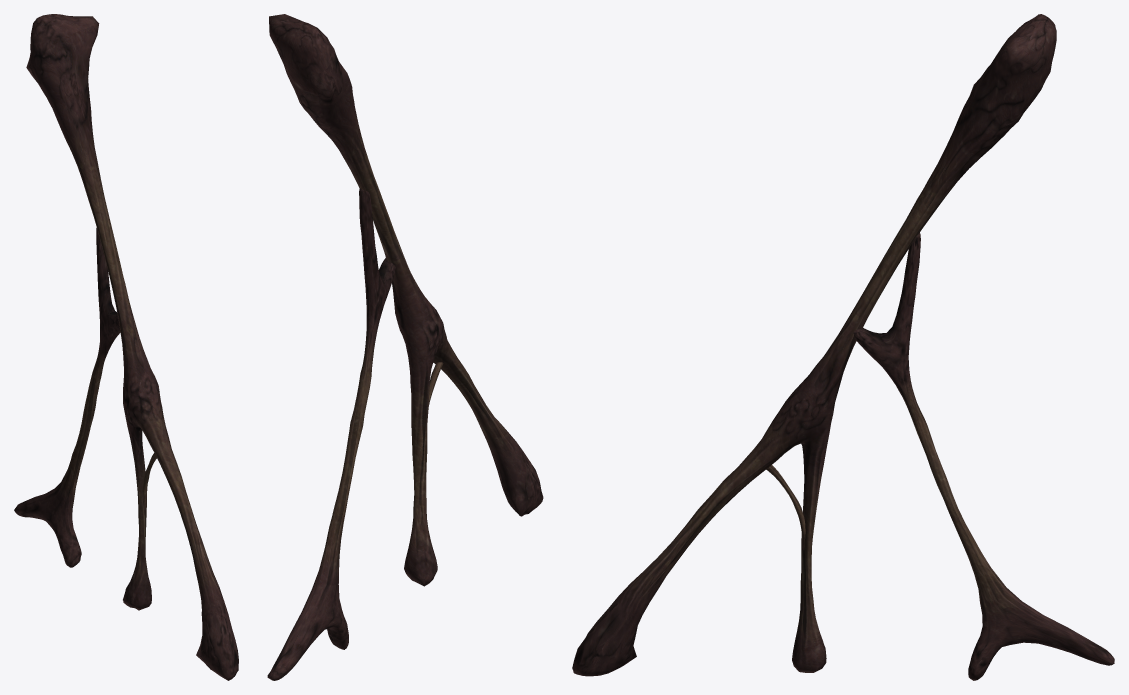
The model's file is shadowflesh_strand_03_decomposed.dae.
3 renders of one model, left to right at view 1: azimuth 30°, elevation 25°; view 2: azimuth 150°, elevation 25°; view 3: azimuth 270°, elevation 25°, orthographic. The views are drawn at different scales.
Visible parts, largest first — view 1: strand_03; view 2: strand_03; view 3: strand_03.
Boxes of the visible parts, box(x1,y1,x2,y2) form: strand_03: box(14, 14, 238, 680); strand_03: box(267, 14, 543, 680); strand_03: box(572, 14, 1114, 680).
Bounding box in the file's own units: 0.6874 × 5.65 × 4.18.
